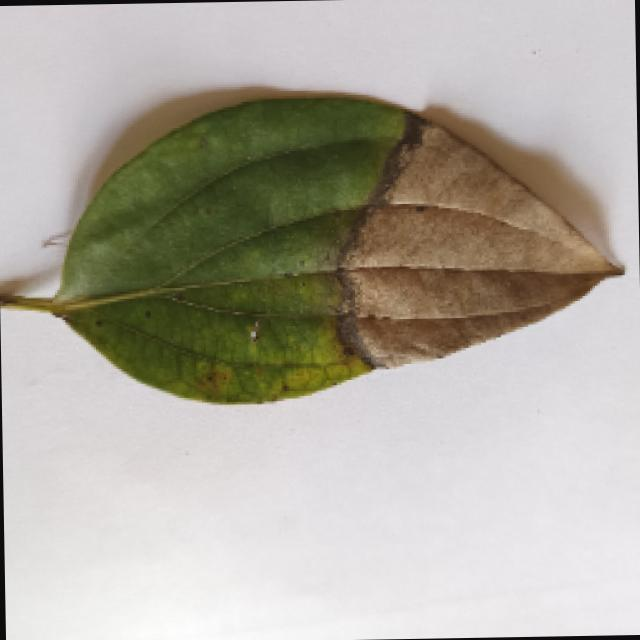footrot: (0, 88, 611, 411)
